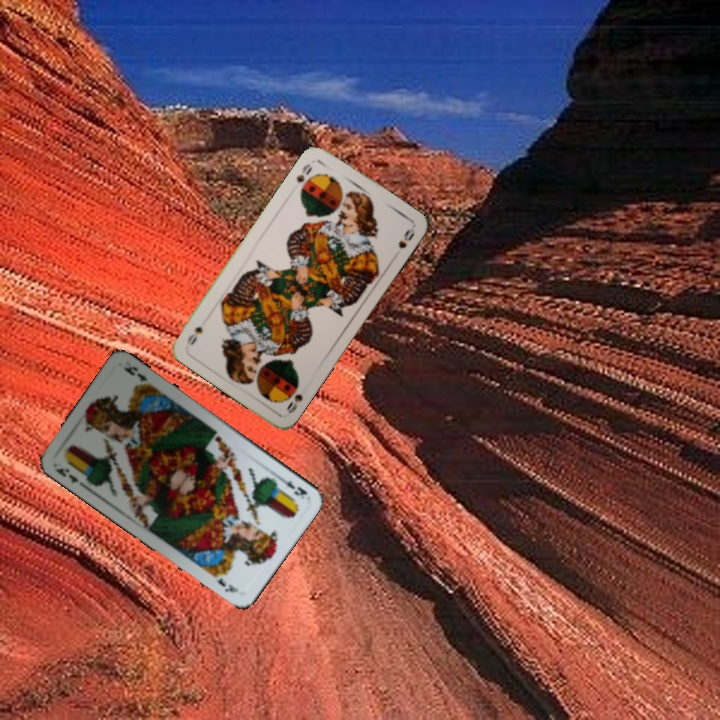EK: (274, 473, 310, 502), (51, 463, 86, 489)
SO: (282, 390, 305, 416), (292, 160, 315, 185)
